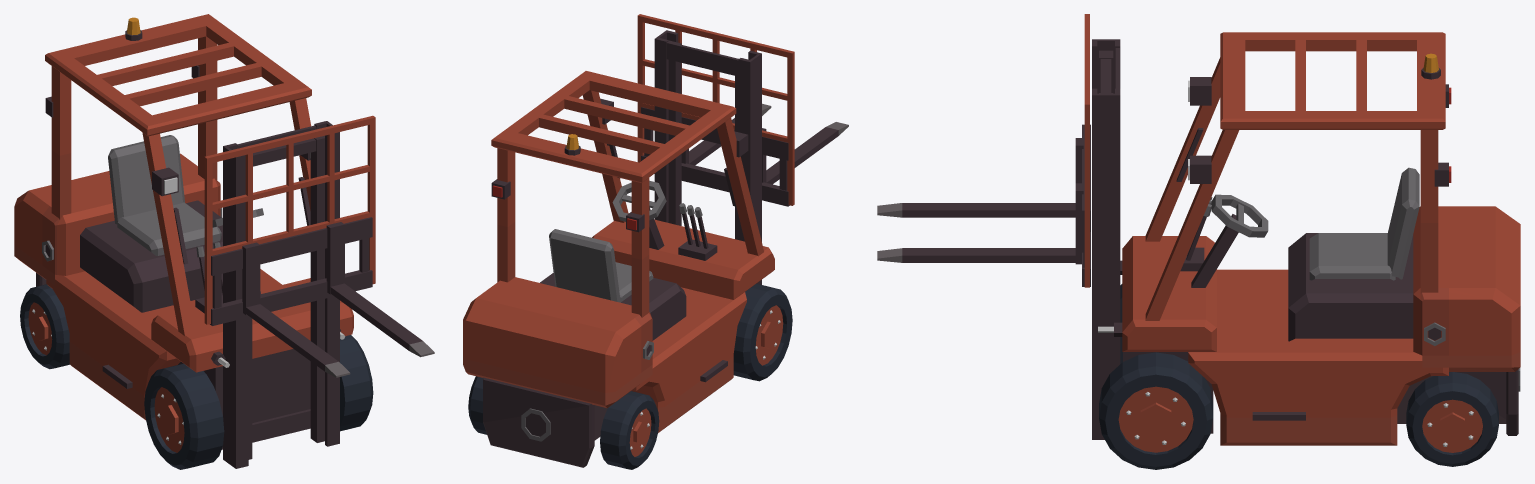
Rendered from forklift.glb.
3 views of the same model, side by side, from view 1: azimuth 30°, elevation 25°; view 2: azimuth 150°, elevation 25°; view 3: azimuth 270°, elevation 25° (orthographic). The views are drawn at different scales.
Parts seen in each view (by area): view 1: body; view 2: body; view 3: body.
Boxes of the visible parts, bbox=[...] form: body: bbox=[14, 14, 434, 469]; body: bbox=[463, 14, 848, 469]; body: bbox=[877, 14, 1520, 469].
Bounding box in the file's own units: 1.3 × 2.27 × 3.6.
